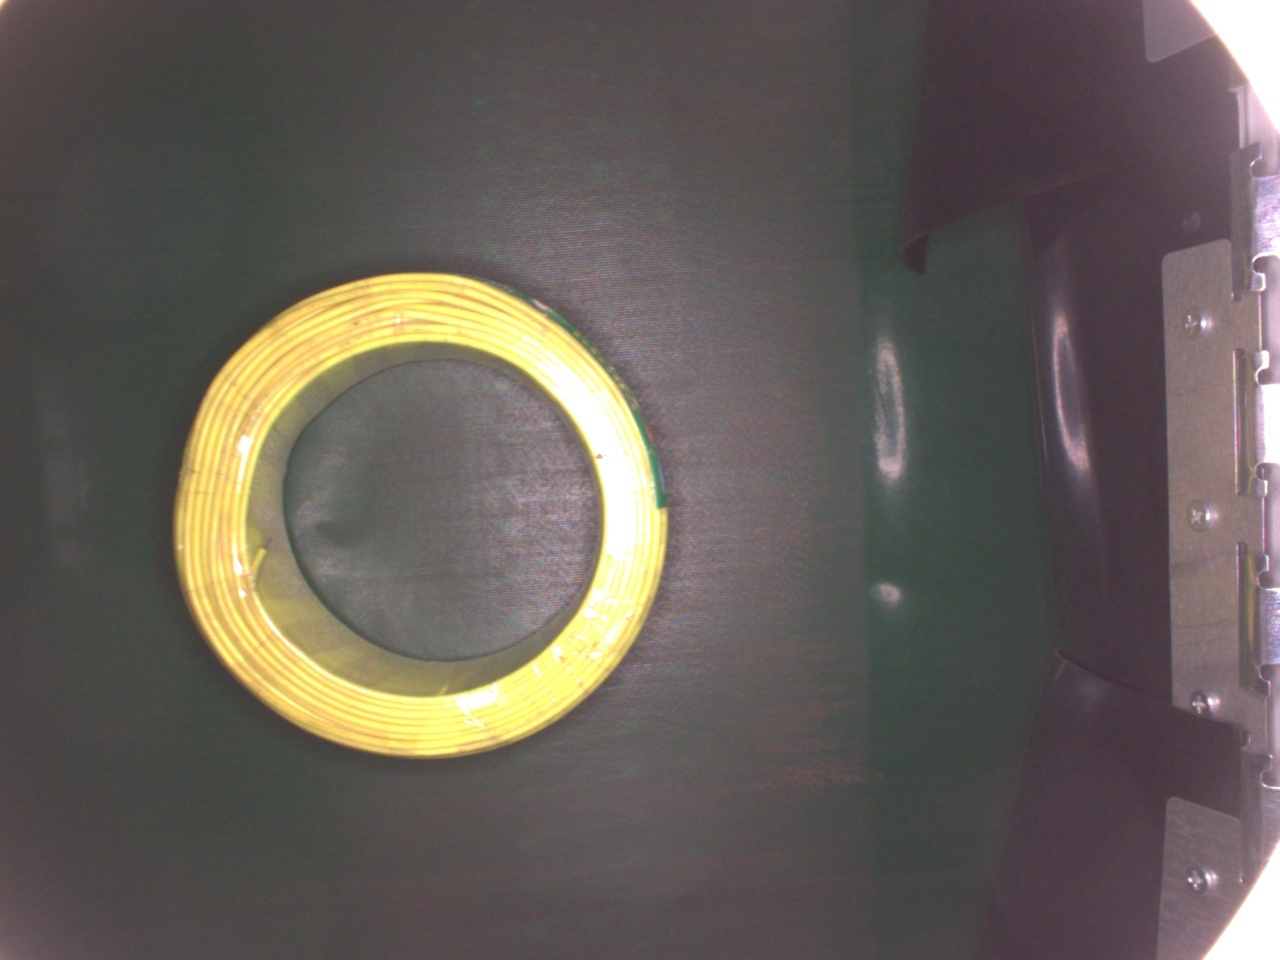yellow: (175, 269, 670, 757)
